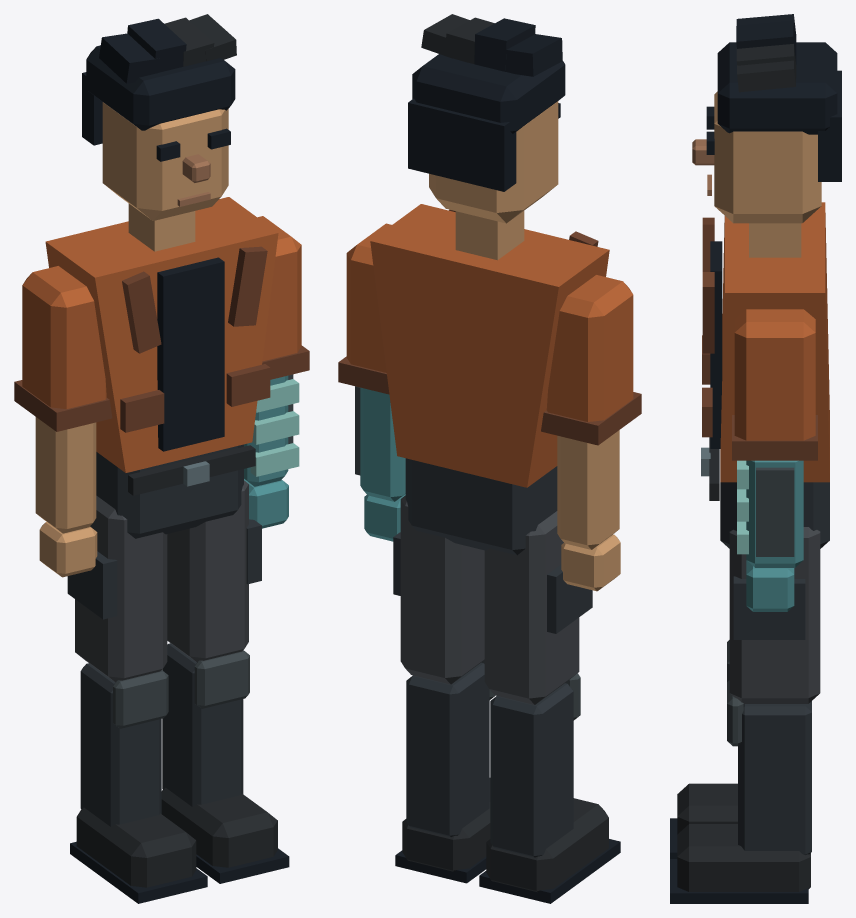
The model's file is survivor.glb.
3 renders of one model, left to right at view 1: azimuth 30°, elevation 25°; view 2: azimuth 150°, elevation 25°; view 3: azimuth 270°, elevation 25°, orthographic. The views are drawn at different scales.
Parts seen in each view (by area): view 1: Hero_Jacket, Hero_BlackShirt, Hero_LeftTrouser, Hero_RightTrouser, Hero_RightSleeve, Hero_Face, Hero_RightShinMesh, Hero_LeftShinMesh, Hero_HairCap, Hero_Pelvis, Hero_RightBoot, Hero_RightForearmMesh (+28 smaller); view 2: Hero_Jacket, Hero_RightShinMesh, Hero_LeftShinMesh, Hero_RightTrouser, Hero_LeftTrouser, Hero_RightSleeve, Hero_Pelvis, Hero_HairBack, Hero_HairCap, Hero_RightForearmMesh, Hero_Face, Hero_RightBoot (+15 smaller); view 3: Hero_Jacket, Hero_LeftShinMesh, Hero_LeftSleeve, Hero_Face, Hero_LeftTrouser, Hero_HairCap, Hero_LeftBoot, Hero_CyberSeam, Hero_LeftCargoPocket, Hero_LeftForearmMesh, Hero_RightBoot, Hero_Pelvis (+18 smaller).
Boxes of the visible parts, x1=… form: Hero_Jacket: x1=45, y1=197, x2=278, y2=472; Hero_BlackShirt: x1=157, y1=257, x2=224, y2=451; Hero_LeftTrouser: x1=167, y1=480, x2=248, y2=662; Hero_RightTrouser: x1=75, y1=495, x2=167, y2=682; Hero_RightSleeve: x1=22, y1=266, x2=106, y2=409; Hero_Face: x1=102, y1=102, x2=228, y2=220; Hero_RightShinMesh: x1=80, y1=663, x2=161, y2=826; Hero_LeftShinMesh: x1=162, y1=643, x2=243, y2=806; Hero_HairCap: x1=86, y1=45, x2=235, y2=130; Hero_Pelvis: x1=96, y1=444, x2=243, y2=538; Hero_RightBoot: x1=76, y1=807, x2=196, y2=887; Hero_RightForearmMesh: x1=35, y1=417, x2=96, y2=533; Hero_Jacket: x1=370, y1=204, x2=609, y2=487; Hero_RightShinMesh: x1=490, y1=683, x2=573, y2=857; Hero_LeftShinMesh: x1=406, y1=662, x2=489, y2=836; Hero_RightTrouser: x1=484, y1=511, x2=579, y2=704; Hero_LeftTrouser: x1=400, y1=495, x2=484, y2=684; Hero_RightSleeve: x1=546, y1=275, x2=633, y2=421; Hero_Pelvis: x1=405, y1=458, x2=557, y2=555; Hero_HairBack: x1=408, y1=98, x2=516, y2=191; Hero_HairCap: x1=412, y1=54, x2=565, y2=133; Hero_RightForearmMesh: x1=557, y1=430, x2=619, y2=549; Hero_Face: x1=429, y1=101, x2=558, y2=223; Hero_RightBoot: x1=486, y1=798, x2=608, y2=892; Hero_Jacket: x1=720, y1=202, x2=829, y2=482; Hero_LeftShinMesh: x1=738, y1=701, x2=811, y2=854; Hero_LeftSleeve: x1=734, y1=309, x2=815, y2=440; Hero_Face: x1=714, y1=91, x2=821, y2=223; Hero_LeftTrouser: x1=729, y1=527, x2=820, y2=703; Hero_HairCap: x1=717, y1=42, x2=837, y2=134; Hero_LeftBoot: x1=677, y1=824, x2=810, y2=891; Hero_CyberSeam: x1=756, y1=467, x2=794, y2=556; Hero_LeftCargoPocket: x1=733, y1=576, x2=805, y2=639; Hero_LeftForearmMesh: x1=746, y1=460, x2=803, y2=567; Hero_RightBoot: x1=677, y1=783, x2=737, y2=834; Hero_Pelvis: x1=720, y1=482, x2=829, y2=548.
Size of the model in its own units: 0.62 by 1.93 by 0.36.
